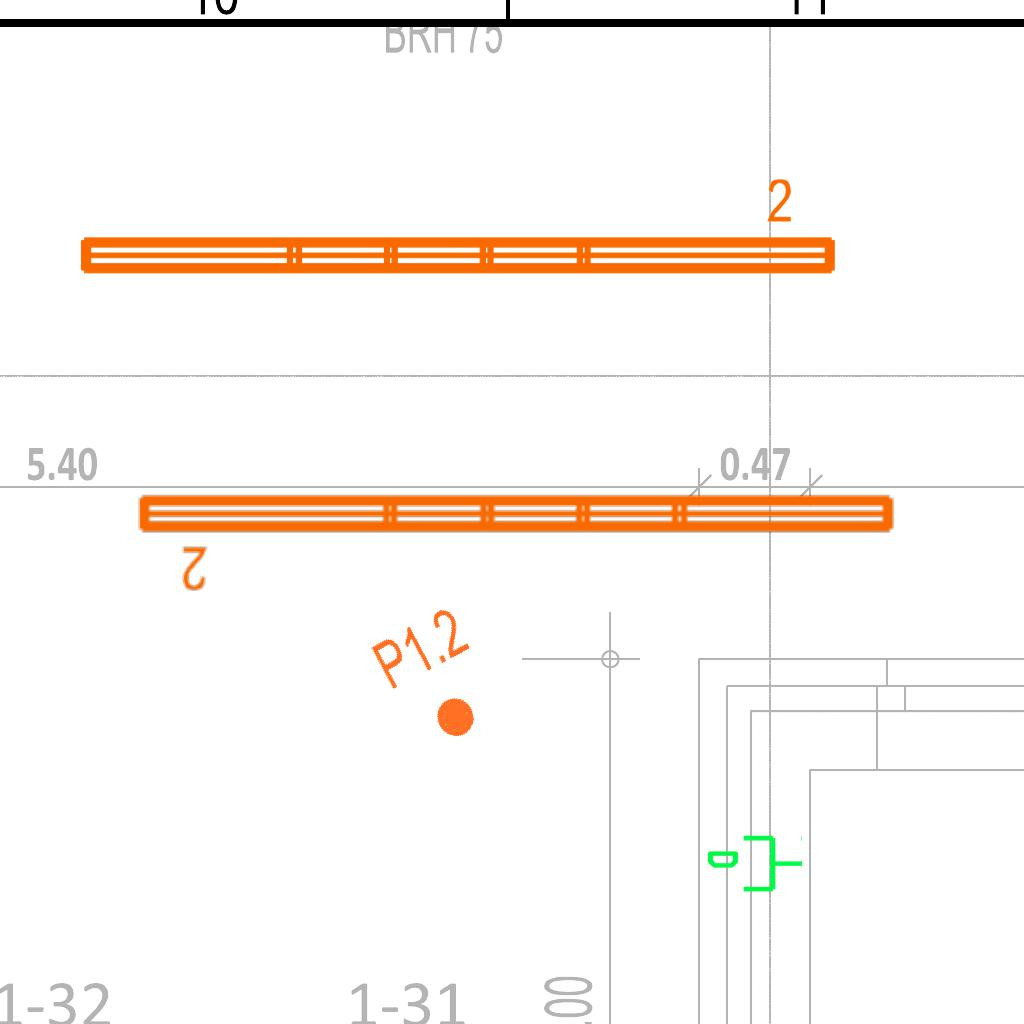Ambulanz_Pendelleuchte_LED: (130, 483, 904, 595), (70, 174, 844, 286)
Datenanschluss_einfach: (705, 831, 805, 900)
Downlight_LED_Einbauleuchten_Flur: (366, 601, 509, 759)
